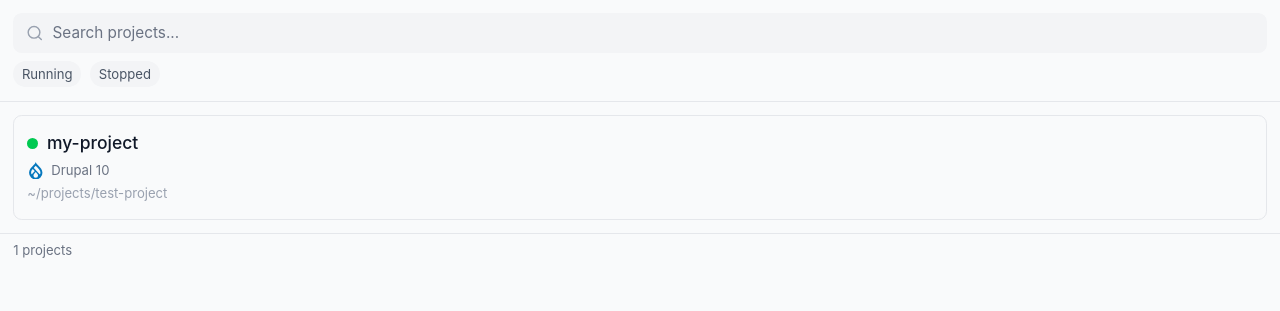
Test: ProjectList › search functionality › should clear search when clear button is clicked
expect the heading "my-project" is shown: met, box [47,132,138,153]
In the field with placeholder "Search projects...": (640, 33) [13,13,1267,52], type "nonexistent"
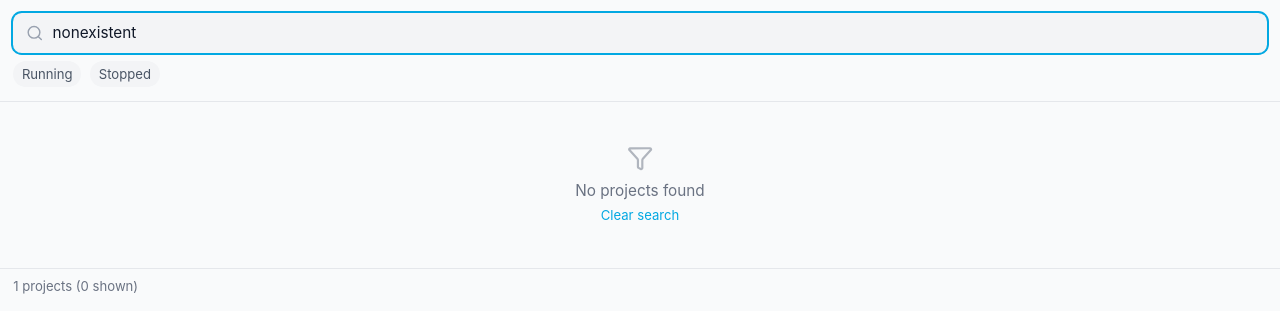
Click the button "Clear search": (640, 215) [601,207,679,224]
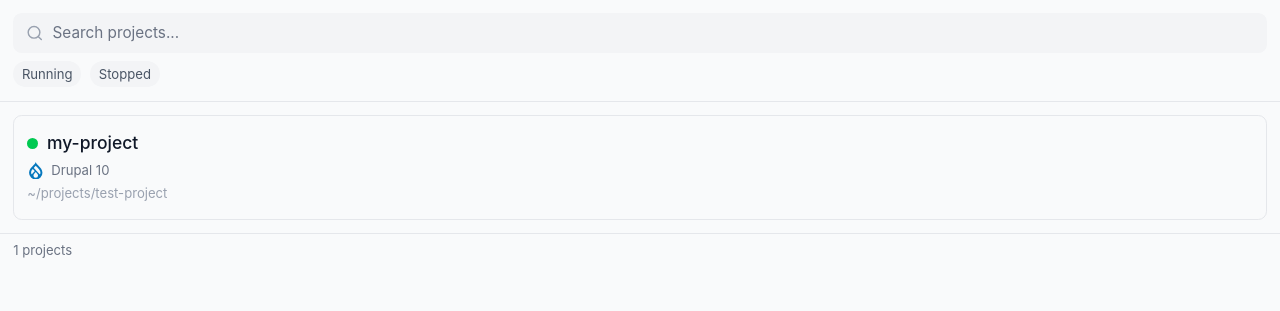
expect the heading "my-project" is shown: met, box [47,132,138,153]
